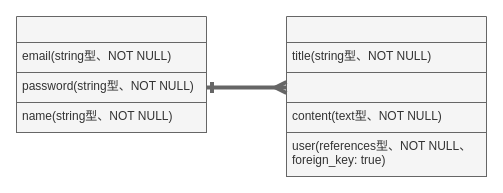
Image size: 503x193. Some labels were removed from this diagram. Here are the shapes that lost their labels. From the top down, the box of each, then its label:
(16, 16, 206, 132): usersテーブル
(286, 72, 486, 102): category_id(integer型、NOT NULL)
(286, 16, 486, 176): dotsテーブル
